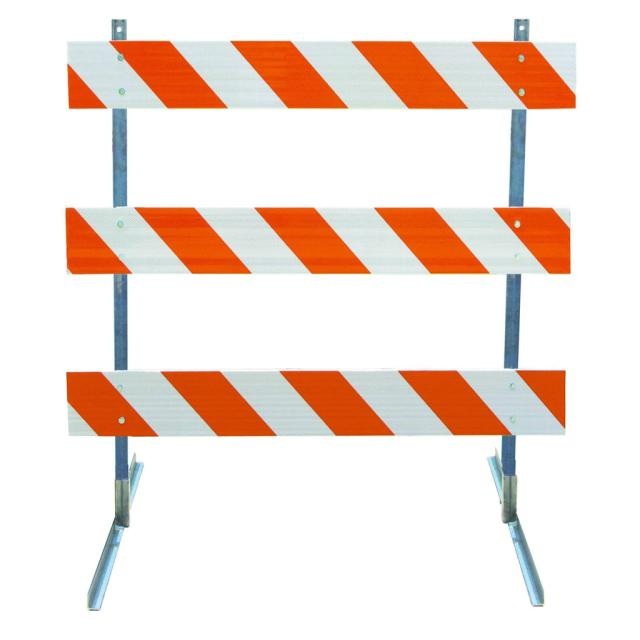cone: (64, 22, 575, 612)
